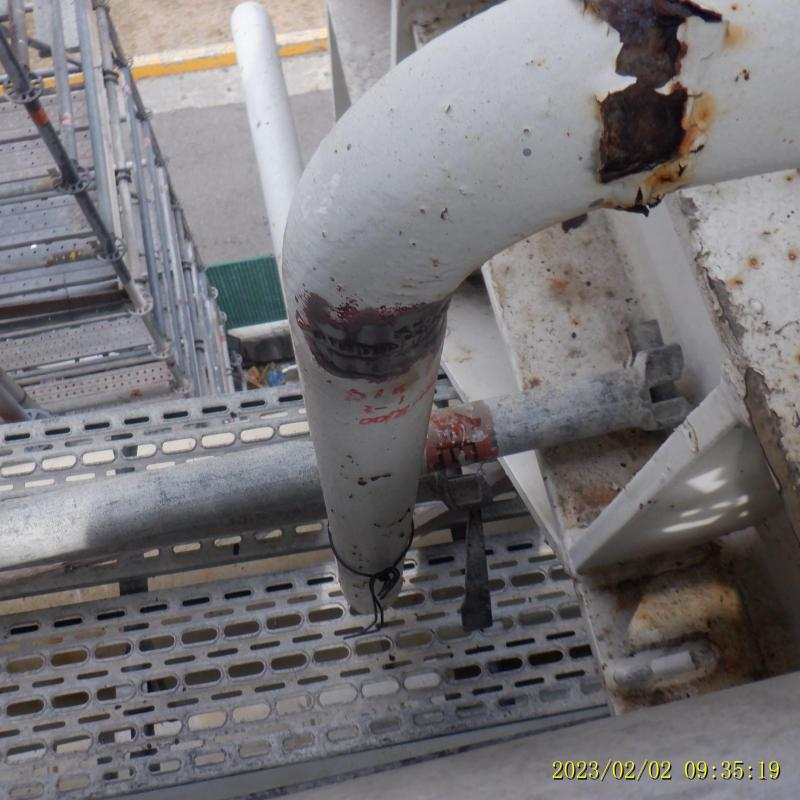corrosion: (586, 3, 704, 181)
